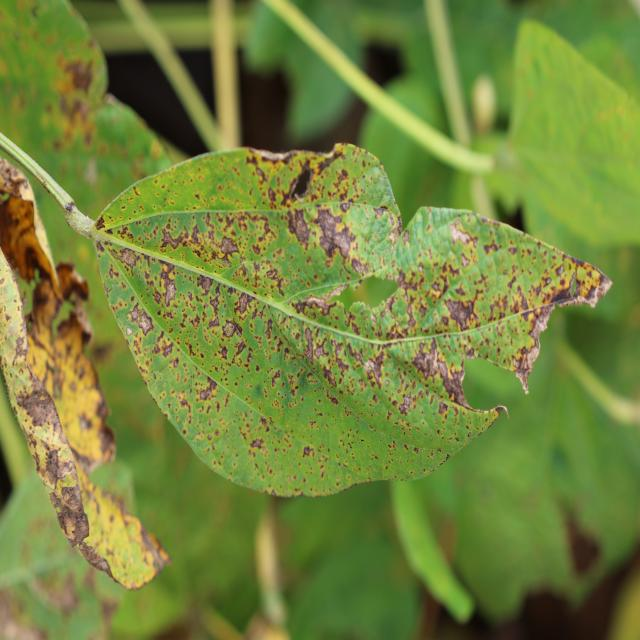Bacterial_Blight: (355, 323, 410, 389), (213, 316, 256, 355)
Soybean: (70, 144, 614, 500)
